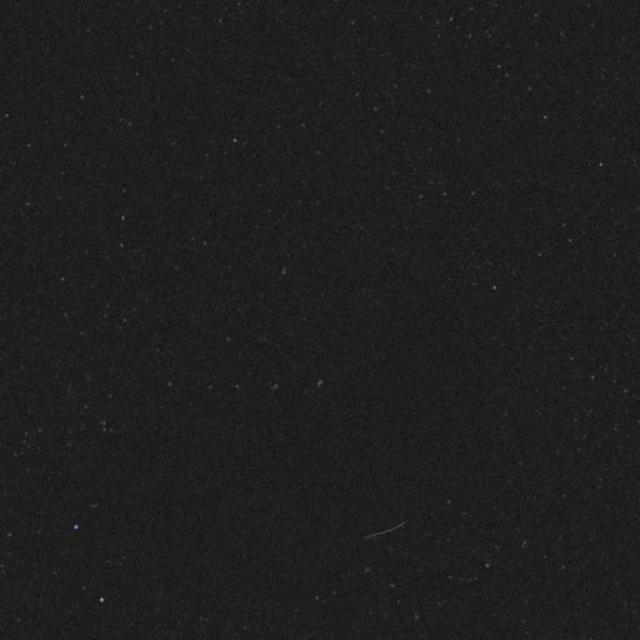proba_3_csc: (91, 386, 449, 531)
